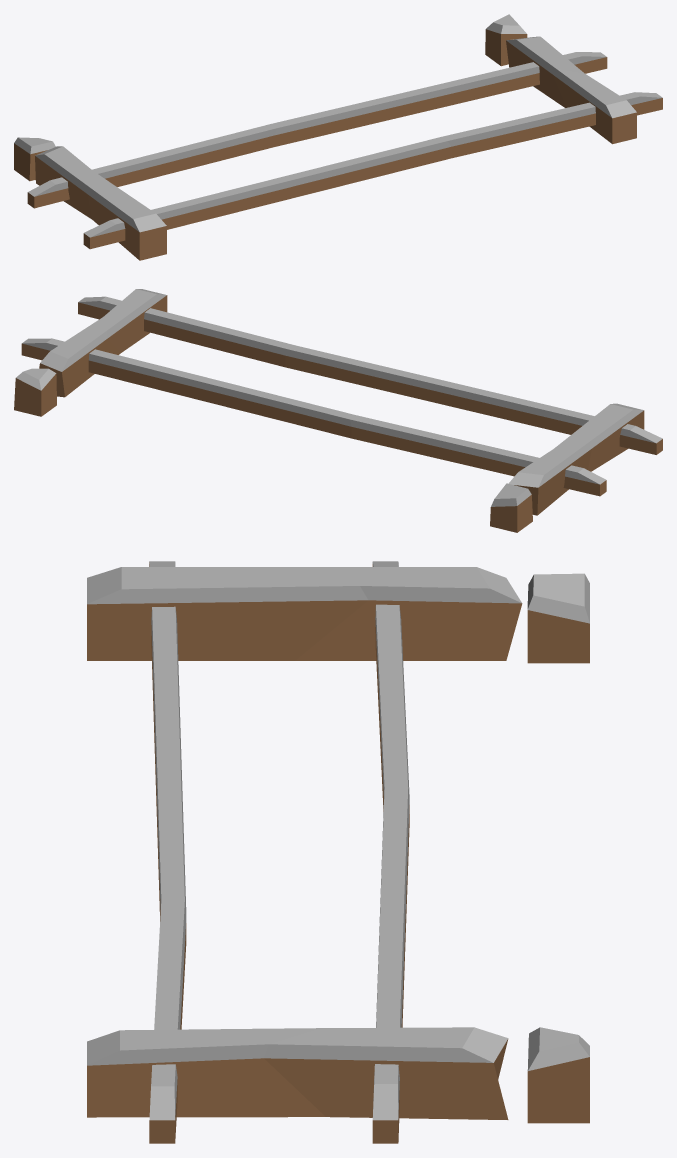
File: Fence_4 Winter Broken.fbx
The picture shows the model from 3 angles, top to bottom: view 1: azimuth 30°, elevation 25°; view 2: azimuth 150°, elevation 25°; view 3: azimuth 270°, elevation 25°; orthographic projection. The views are drawn at different scales.
Parts seen in each view (by area): view 1: Fence4BrokenWinter_mesh; view 2: Fence4BrokenWinter_mesh; view 3: Fence4BrokenWinter_mesh.
Part boxes in pixels (box(x1,y1,x2,y2)): Fence4BrokenWinter_mesh: box(14, 14, 662, 260); Fence4BrokenWinter_mesh: box(14, 289, 662, 532); Fence4BrokenWinter_mesh: box(87, 561, 589, 1143).
Size of the model in its own units: 316 by 19.78 by 120.
